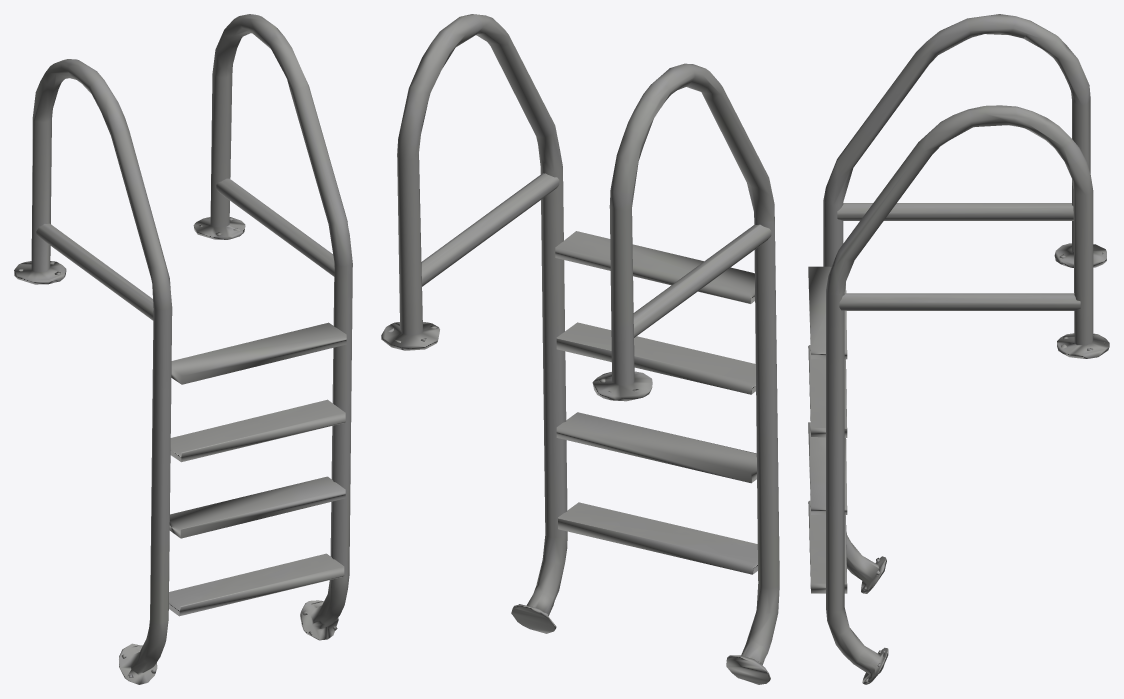
The model's file is piscina_escada.glb.
3 views of the same model, side by side, from view 1: azimuth 30°, elevation 25°; view 2: azimuth 150°, elevation 25°; view 3: azimuth 270°, elevation 25° (orthographic). The views are drawn at different scales.
Parts seen in each view (by area): view 1: Brushed Steel Pool Ladder; view 2: Brushed Steel Pool Ladder; view 3: Brushed Steel Pool Ladder.
Part boxes in pixels (bbox=[...]): Brushed Steel Pool Ladder: bbox=[14, 14, 352, 684]; Brushed Steel Pool Ladder: bbox=[381, 14, 779, 684]; Brushed Steel Pool Ladder: bbox=[808, 14, 1109, 684].
Size of the model in its own units: 0.4121 by 0.998 by 0.4707.
1 material, 1 textured.
